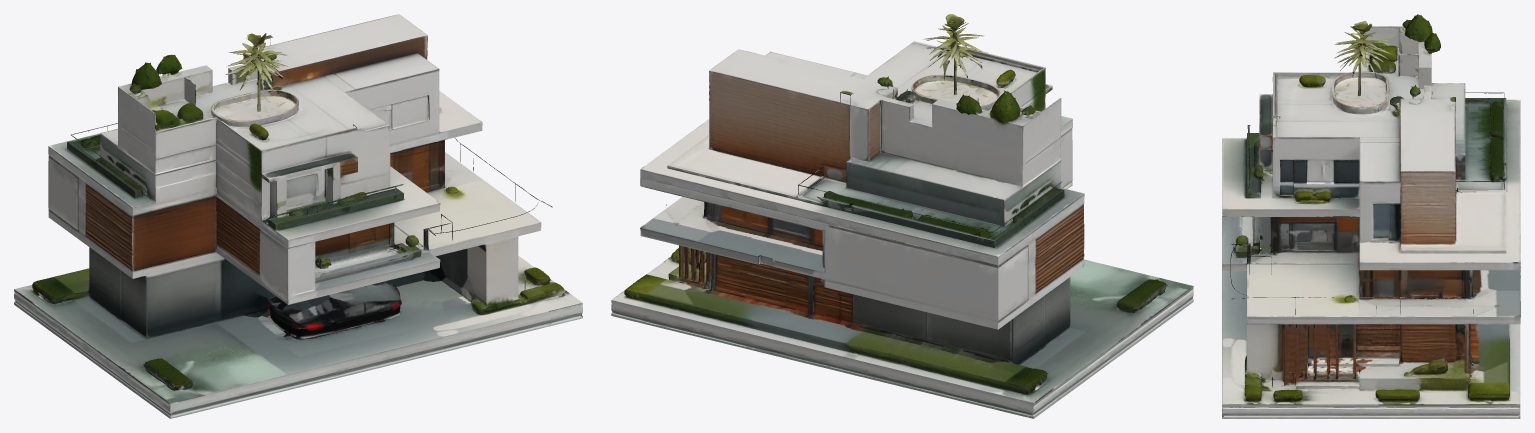
File: house-roof-garden.glb
3 views of the same model, side by side, from view 1: azimuth 30°, elevation 25°; view 2: azimuth 150°, elevation 25°; view 3: azimuth 270°, elevation 25° (orthographic). The views are drawn at different scales.
Visible parts, largest first — view 1: model; view 2: model; view 3: model.
Part boxes in pixels (x1=…): model: x1=14, y1=14, x2=582, y2=418; model: x1=611, y1=14, x2=1193, y2=418; model: x1=1222, y1=14, x2=1520, y2=418.
Bounding box in the file's own units: 18.33 × 12.4 × 12.04.
1 material, 1 textured.
